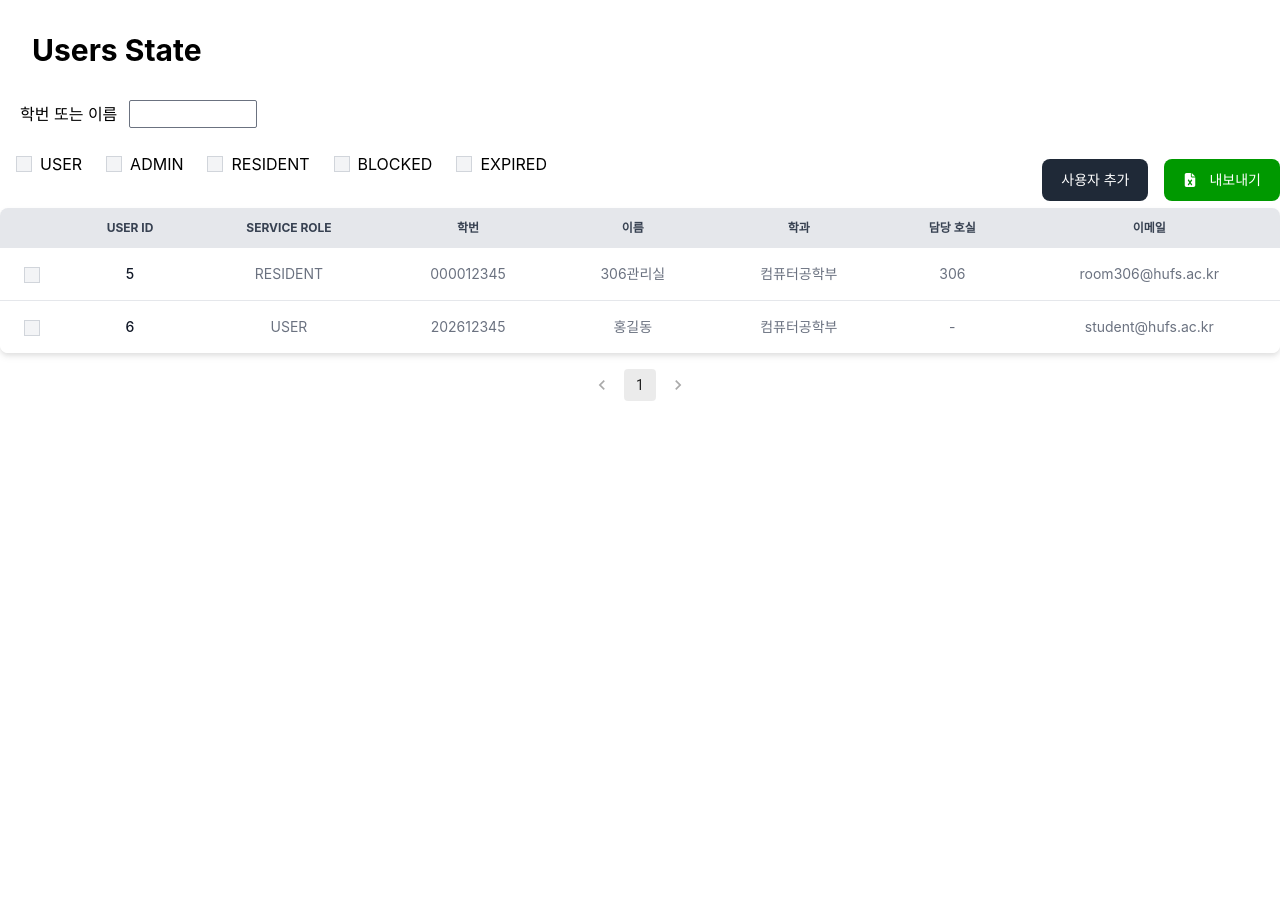
Test: FetchState 담당 호실 › 이미 관리실 계정이면 서버가 준 담당 호실이 골라져 있다
The image size is (1280, 900).
Click the checkbox in the row of "000012345": (32,275) [24,267,40,283]
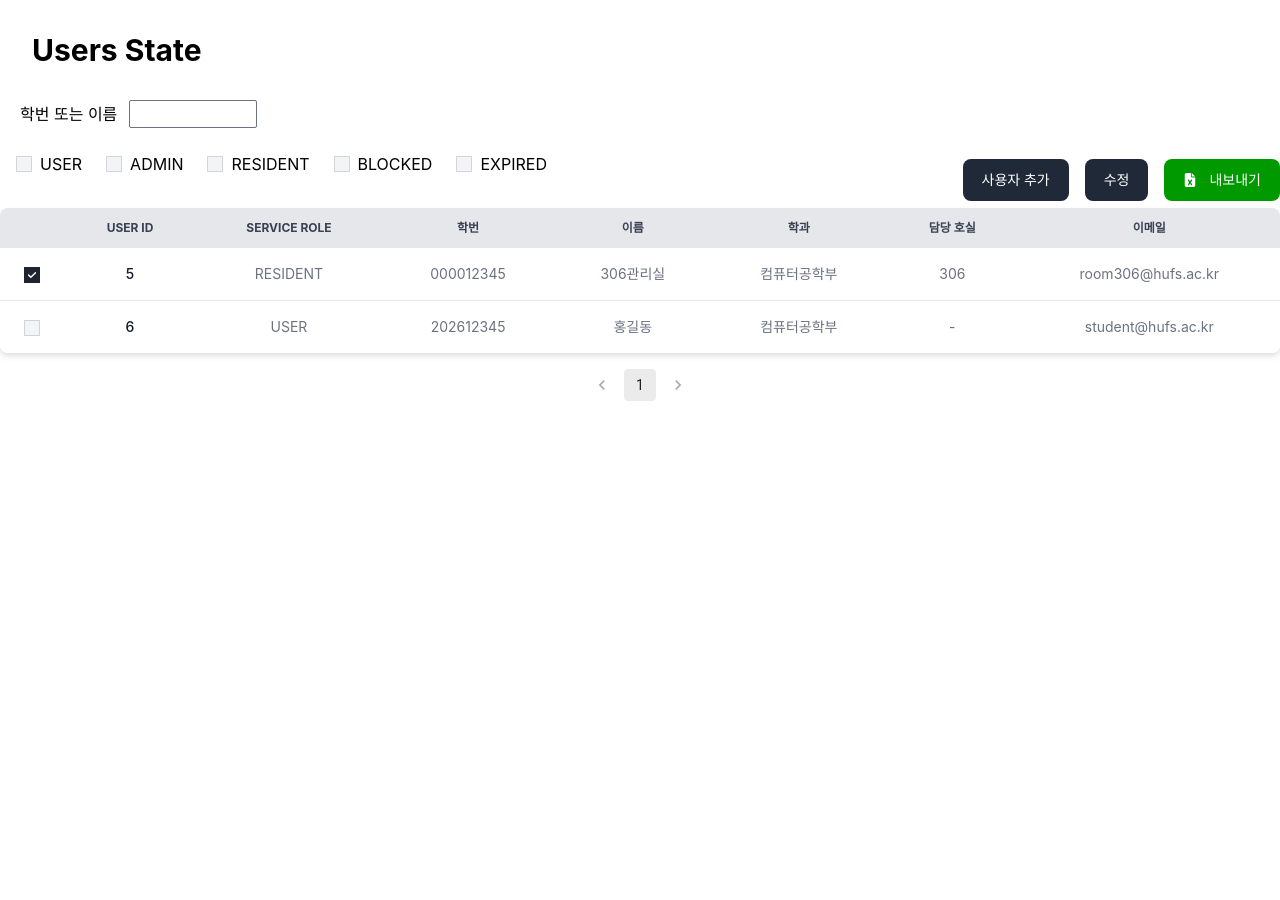
Click the button "수정": (1117,180) [1085,159,1148,201]
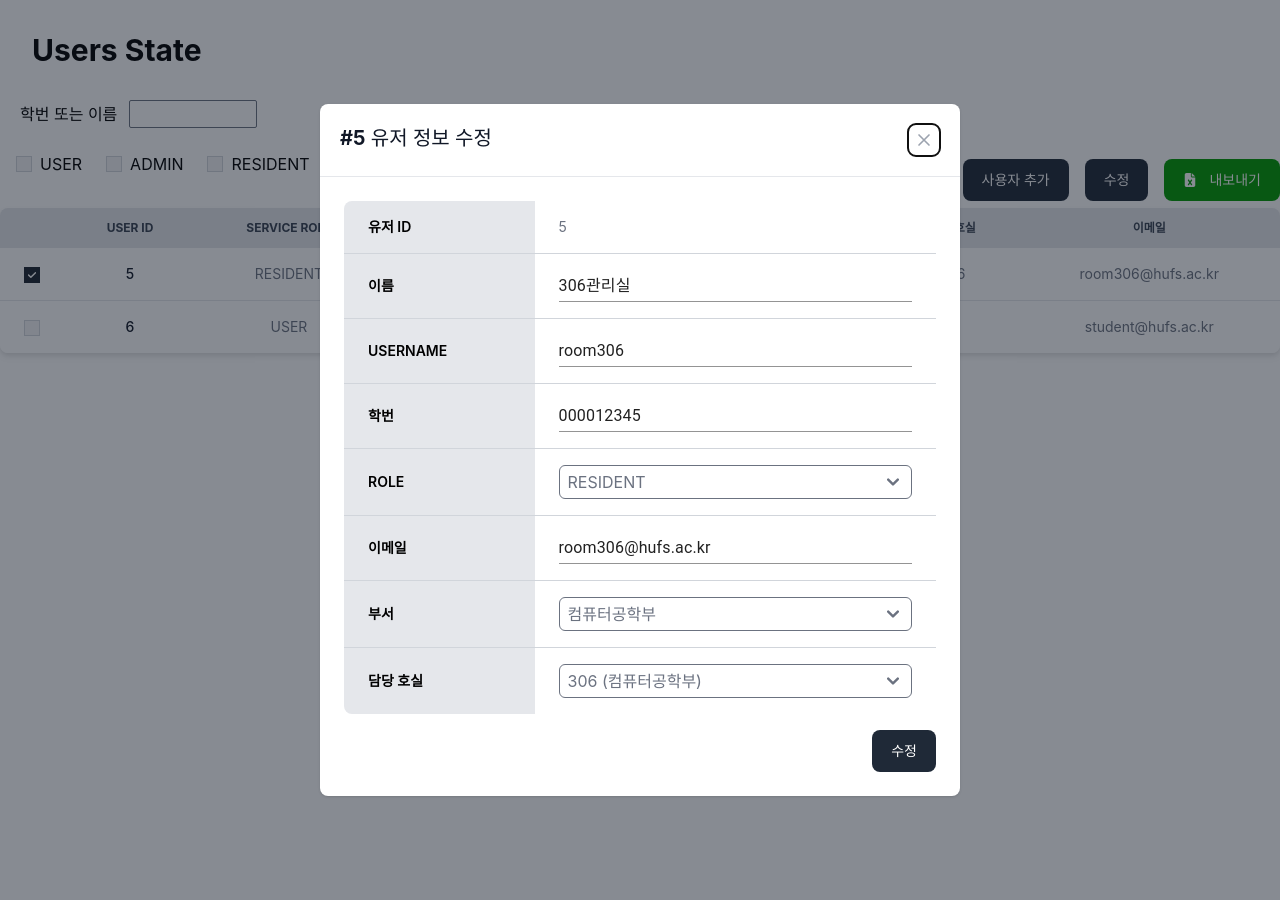
Now the dropdown named "담당 호실" shows "306 (컴퓨터공학부)", box [559,664,912,698]
